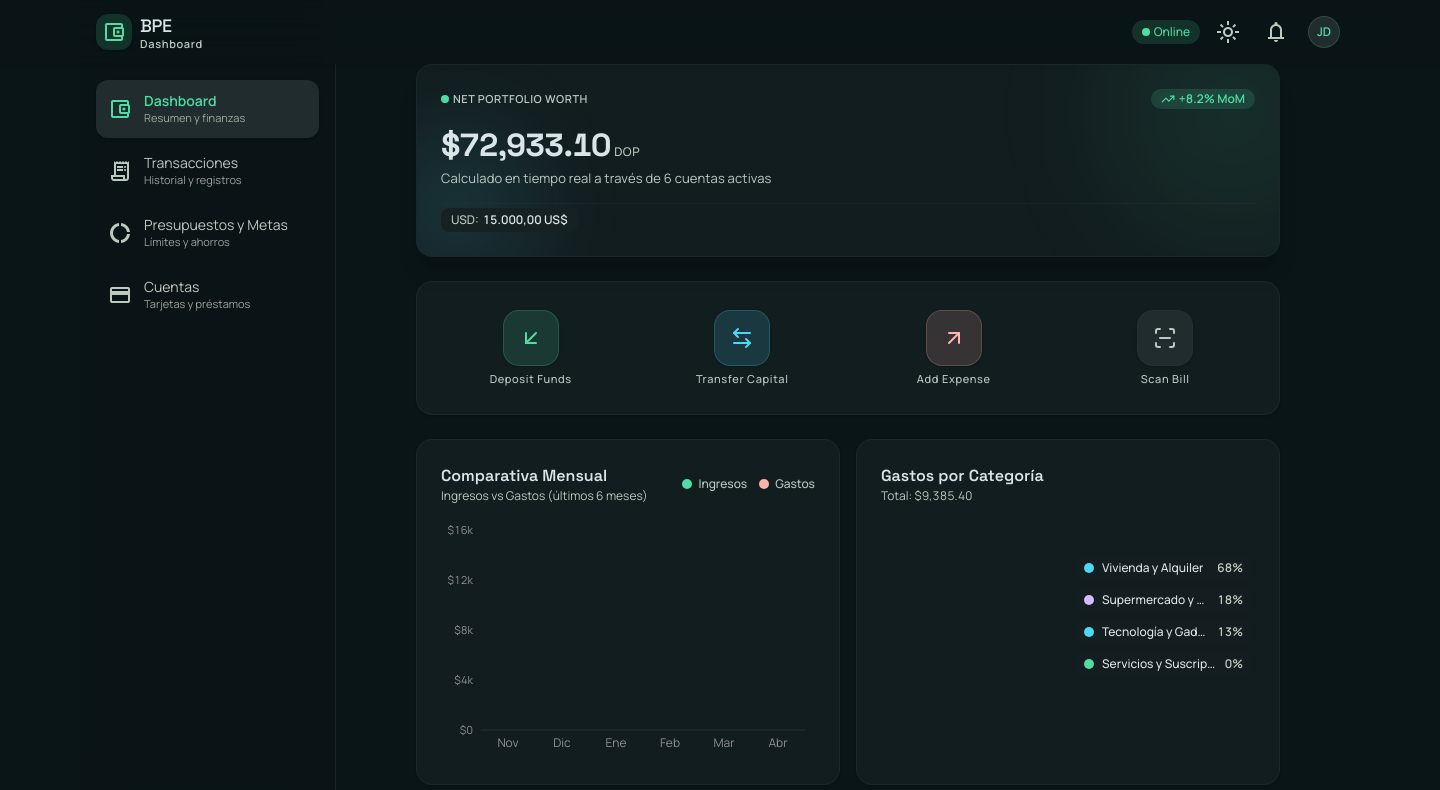
App & Router Shell (Google Stitch UI) › navigates to Transacciones when clicking the navigation link
Click the link "Transacciones Historial y registros" at [175, 170], box [108,153,242,186]
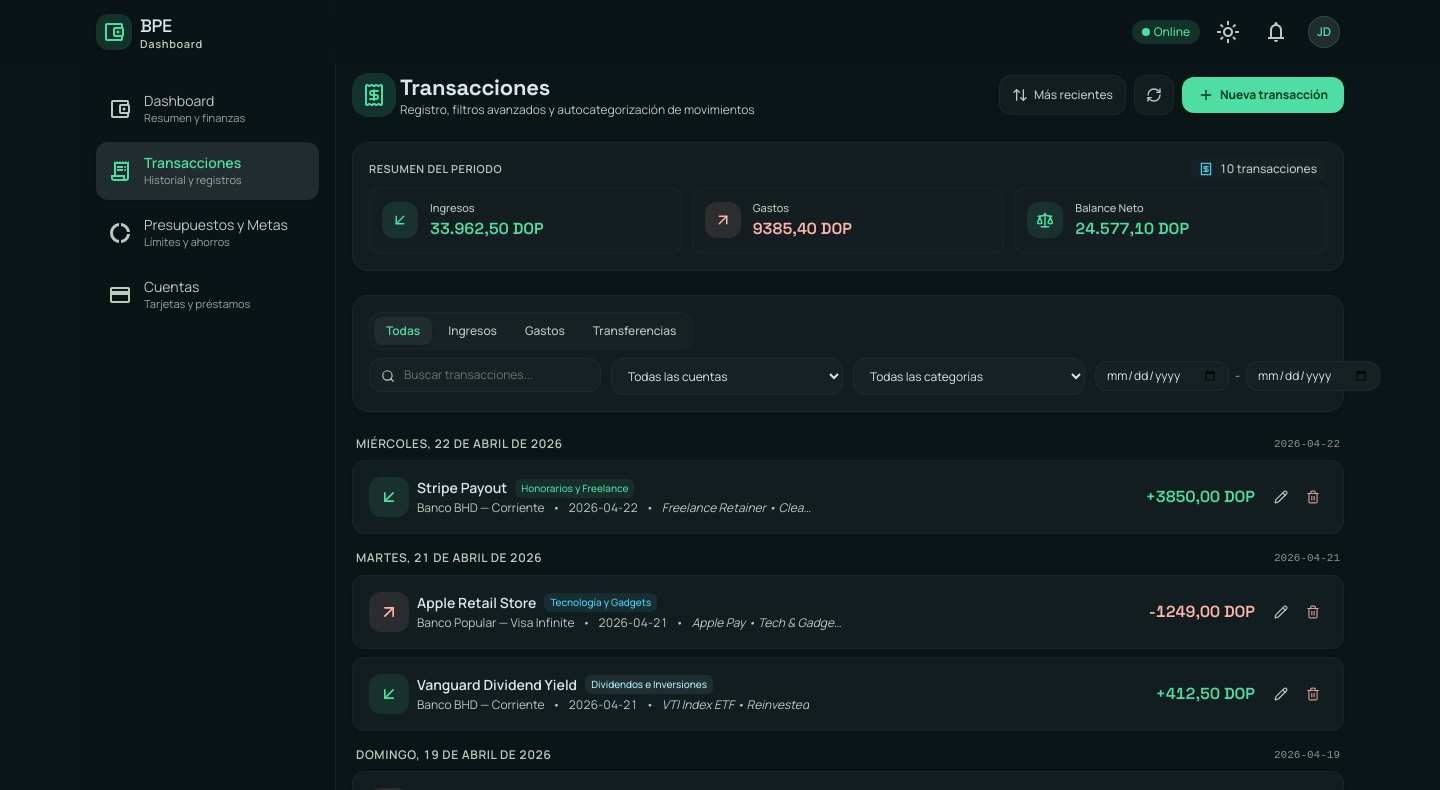
Now the heading "Transacciones" is shown, box [400,73,550,101]
